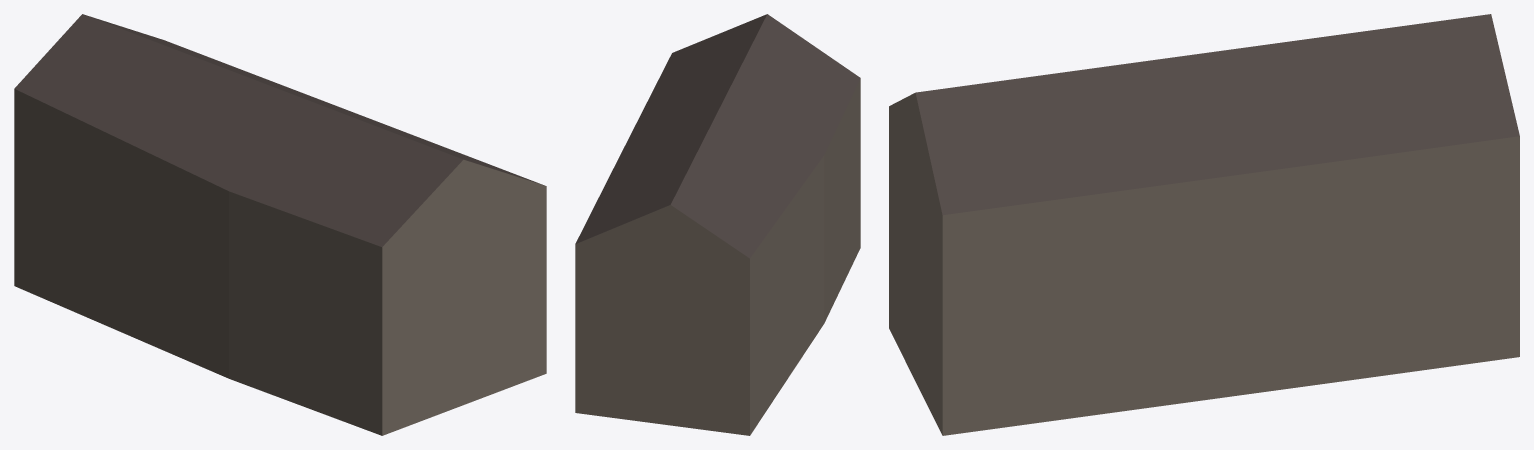
3 renders of one model, left to right at view 1: azimuth 30°, elevation 25°; view 2: azimuth 150°, elevation 25°; view 3: azimuth 270°, elevation 25°, orthographic. The views are drawn at different scales.
Visible parts, largest first — view 1: HP-w1516161902; view 2: HP-w1516161902; view 3: HP-w1516161902.
Boxes of the visible parts, bbox=[...] form: HP-w1516161902: bbox=[14, 14, 546, 435]; HP-w1516161902: bbox=[575, 14, 860, 435]; HP-w1516161902: bbox=[889, 14, 1519, 435].
Size of the model in its own units: 10.37 by 7.86 by 15.54.
